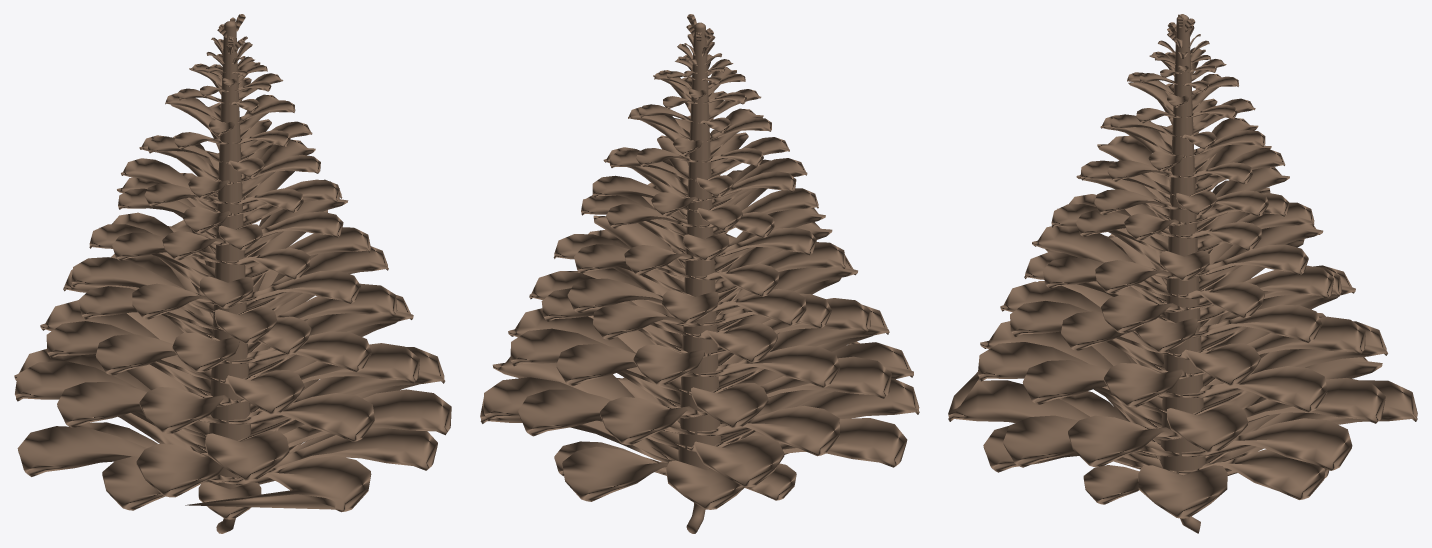
File: PineConeCone 1.fbx
3 renders of one model, left to right at view 1: azimuth 30°, elevation 25°; view 2: azimuth 150°, elevation 25°; view 3: azimuth 270°, elevation 25°, orthographic. The views are drawn at different scales.
Parts seen in each view (by area): view 1: Plane.002; view 2: Plane.002; view 3: Plane.002.
Boxes of the visible parts, x1,y1,x2,y2 form: Plane.002: (14, 14, 451, 533); Plane.002: (480, 14, 919, 533); Plane.002: (948, 14, 1417, 533).
Bounding box in the file's own units: 581 × 715 × 581.
